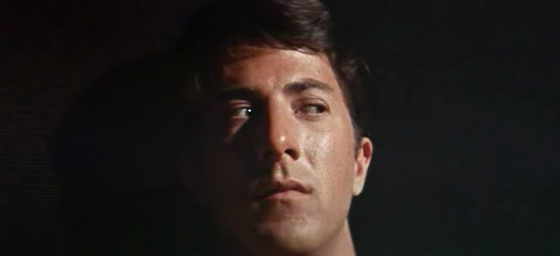cu: (1, 1, 560, 256)
face: (198, 46, 353, 256)
person: (160, 1, 374, 256)
